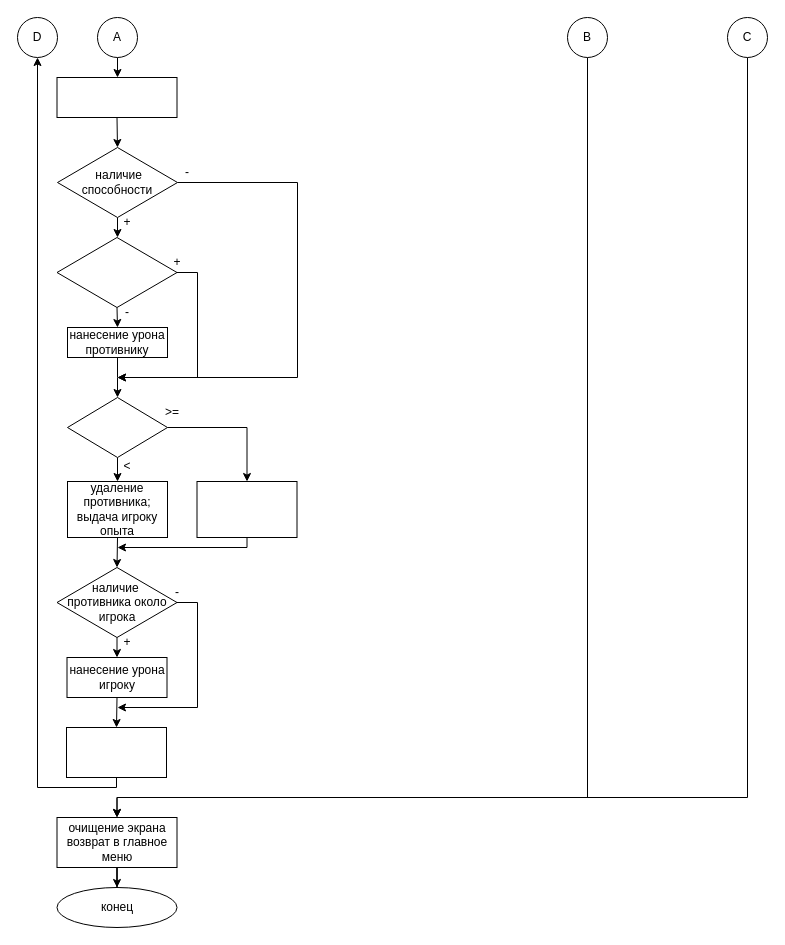
Image size: 785x945. Some labels were removed from this diagram. Here are the shapes that lost their labels. From the top down, the centre of each, then its label:
At pixel 116 97: "поиск ближайшего противника".
At pixel 116 272: "наличие перезарядки".
At pixel 117 427: "проверка здоровья врагов".
At pixel 246 509: "преследование игрока противником".
At pixel 116 752: "отображение изменений на экране".
